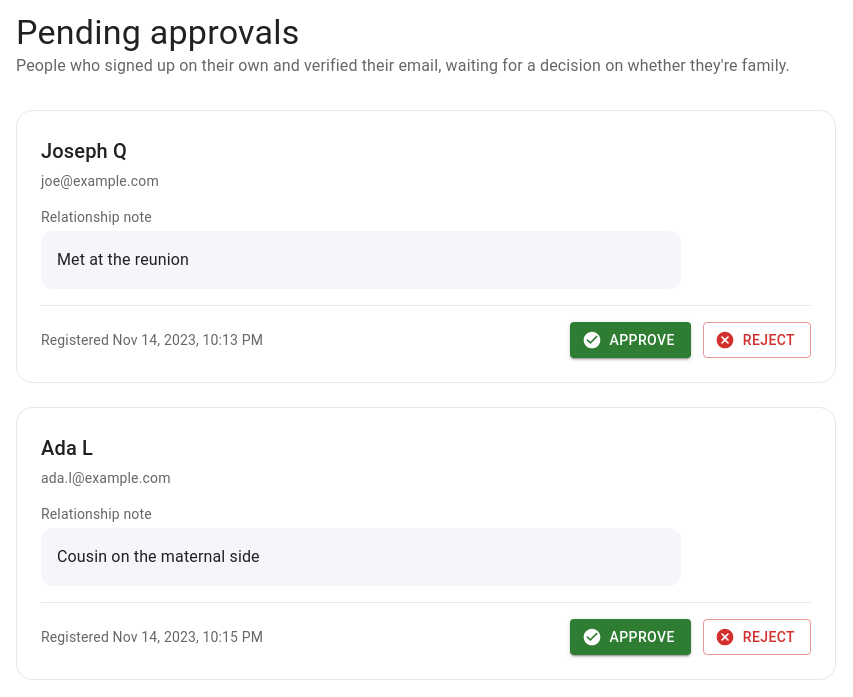
Test: ApprovalsPage › a failed row action shows a distinct error banner without hiding other populated rows (WR-01)
expect the heading "Joseph Q" is shown: met, box [41,139,127,163]
expect the heading "Ada L" is shown: met, box [41,436,93,460]
Click the button "Approve" in the row of "Nov 14, 2023, 10:13 PM". click: (630, 340)
box: [570,322,691,358]
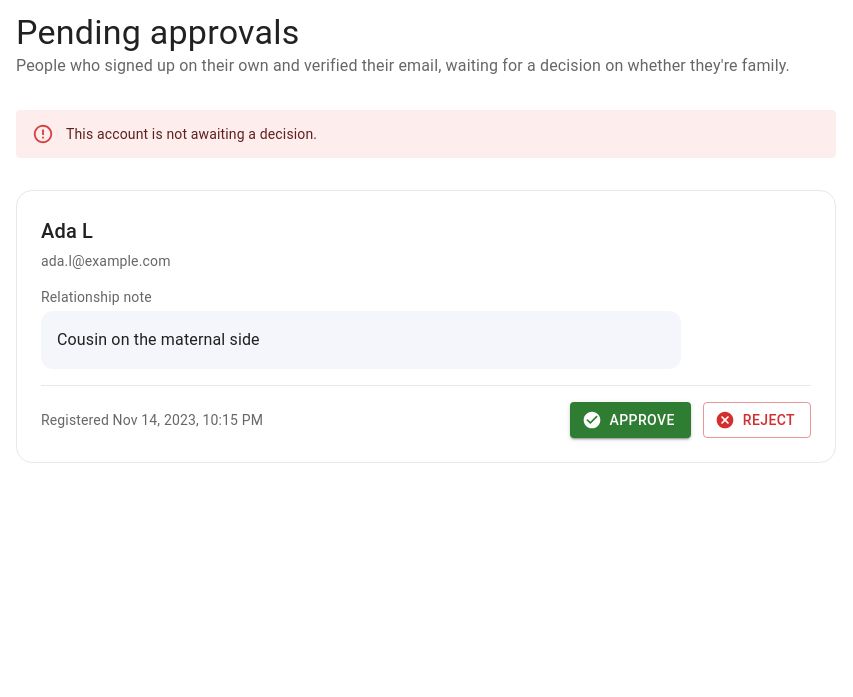
expect the heading "Ada L" is shown: met, box [41,219,93,243]
expect the text "This account is not awaiting a decision." is shown: met, box [66,126,317,142]
expect the heading "Joseph Q" is gone: met
